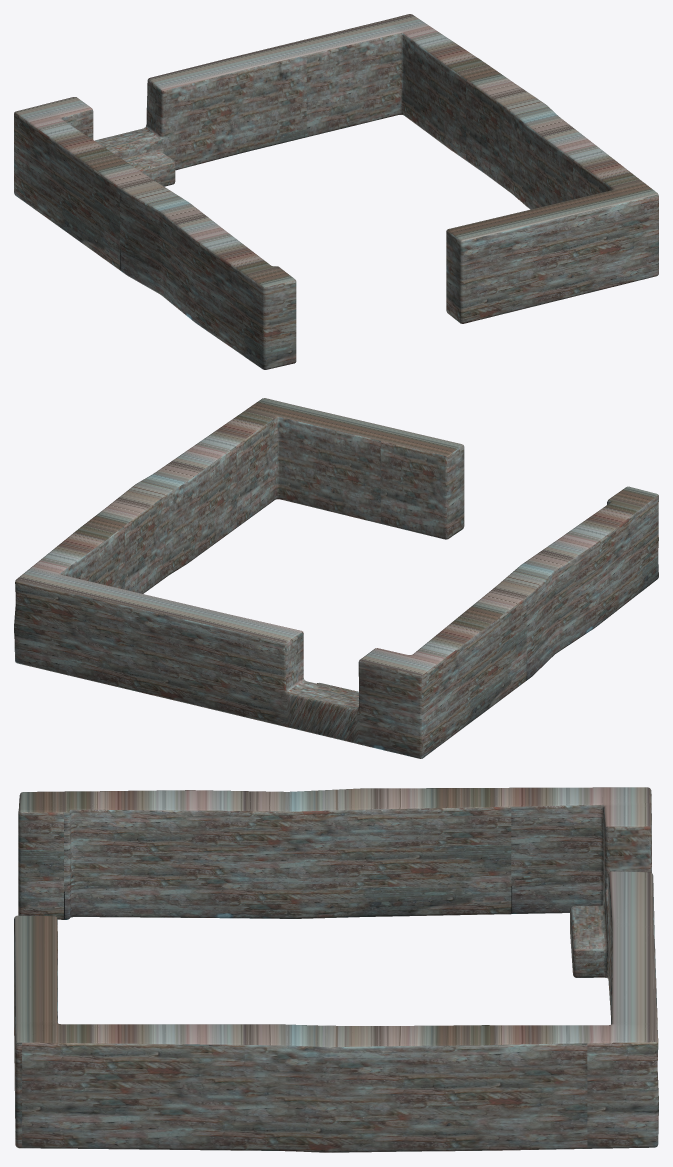
File: Room_G_wall_plinth.gltf
3 views of the same model, one above another, from view 1: azimuth 30°, elevation 25°; view 2: azimuth 150°, elevation 25°; view 3: azimuth 270°, elevation 25° (orthographic). The views are drawn at different scales.
Parts seen in each view (by area): view 1: Room_G_wall_plinth_Plane; view 2: Room_G_wall_plinth_Plane; view 3: Room_G_wall_plinth_Plane.
Boxes of the visible parts, bbox=[...] form: Room_G_wall_plinth_Plane: bbox=[14, 14, 658, 369]; Room_G_wall_plinth_Plane: bbox=[14, 398, 658, 758]; Room_G_wall_plinth_Plane: bbox=[14, 787, 658, 1152].
Size of the model in its own units: 5.26 by 1.03 by 5.54.
Materials: 1 (1 with a texture image).
